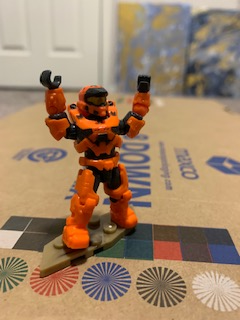spartan: (35, 68, 154, 251)
up: (32, 69, 153, 154)
